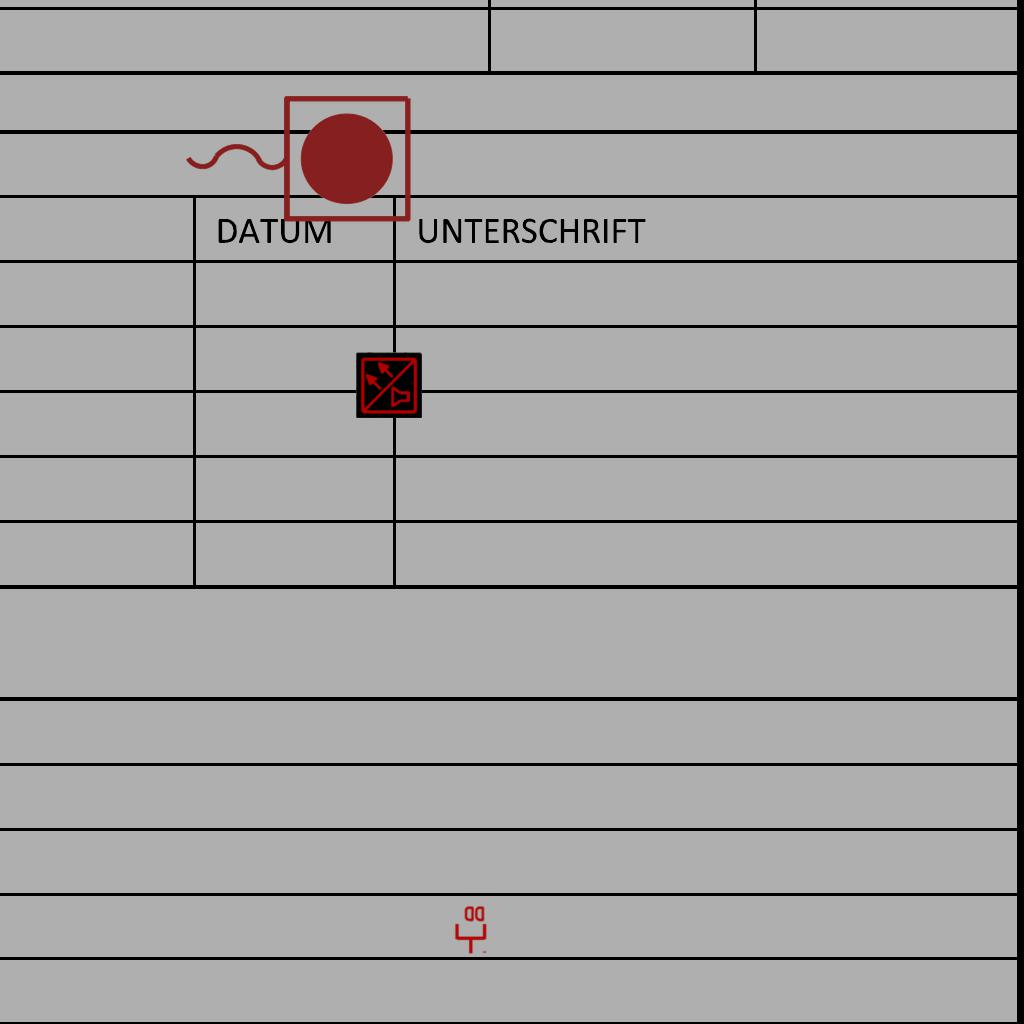Datenanschluss_zweifach: (453, 904, 487, 955)
OKW_Multisensormelder_(Kombination_optischer_Rauch-Kahlenmonoxid_Waerme-Melder): (356, 352, 422, 418)
Zugtaster: (175, 85, 419, 229)
